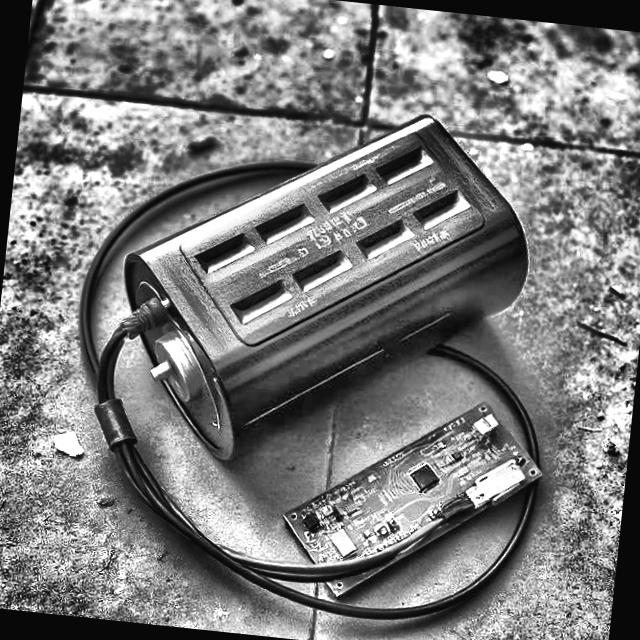Battery: (105, 87, 545, 495)
Cable: (50, 295, 177, 519), (147, 484, 323, 612)
PCB: (276, 380, 553, 627)
